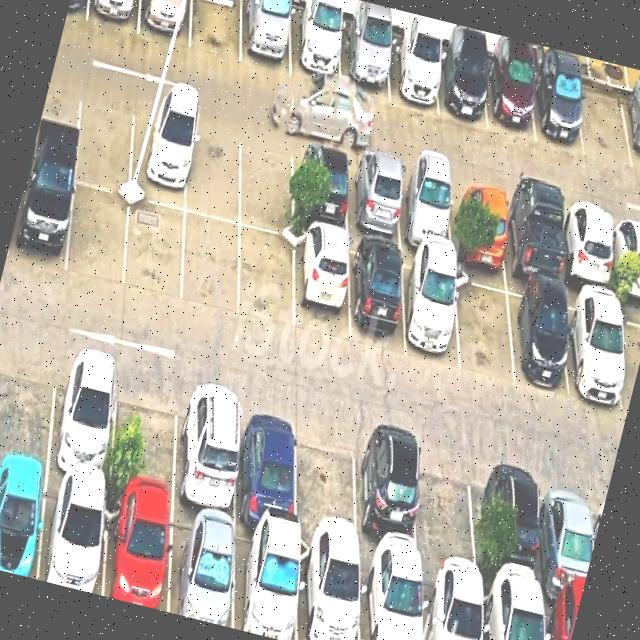empty: (111, 362, 180, 505), (297, 411, 358, 551), (421, 438, 478, 581), (0, 333, 58, 470), (454, 267, 514, 383), (66, 183, 130, 287), (74, 86, 134, 193), (125, 198, 185, 304), (181, 212, 239, 316), (185, 115, 240, 223), (240, 127, 293, 238), (238, 228, 293, 330), (576, 79, 632, 168), (190, 0, 241, 62), (618, 299, 640, 412)
occupied: (47, 346, 118, 488), (174, 379, 240, 521), (357, 425, 421, 566), (236, 394, 298, 533), (38, 475, 106, 595), (168, 507, 234, 628), (104, 492, 170, 612), (233, 524, 297, 640), (490, 454, 543, 594), (7, 165, 75, 274), (564, 288, 624, 407), (506, 279, 568, 391), (543, 467, 594, 602), (129, 100, 191, 210), (402, 252, 460, 369), (298, 539, 360, 640), (350, 239, 405, 352), (295, 226, 349, 341), (504, 190, 561, 285), (0, 464, 47, 579), (360, 556, 422, 640), (452, 177, 507, 270), (294, 140, 348, 233), (398, 164, 452, 254), (349, 153, 402, 244), (562, 202, 613, 292), (533, 65, 584, 155), (422, 568, 482, 640), (435, 46, 487, 128), (486, 55, 535, 141), (290, 6, 341, 88), (387, 34, 438, 114), (241, 0, 290, 76), (341, 23, 389, 99), (483, 582, 543, 640), (138, 0, 192, 47), (611, 213, 640, 297), (87, 0, 140, 34), (543, 595, 580, 640), (621, 89, 640, 170)
